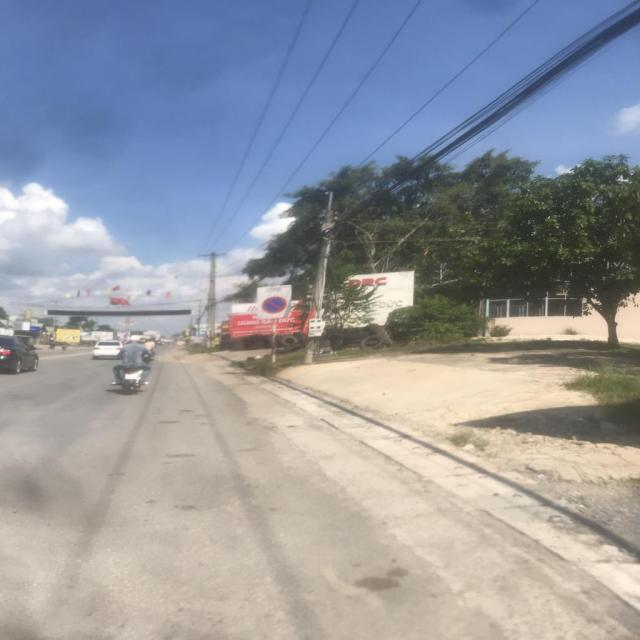cam_do_xe: (262, 297, 288, 313)
